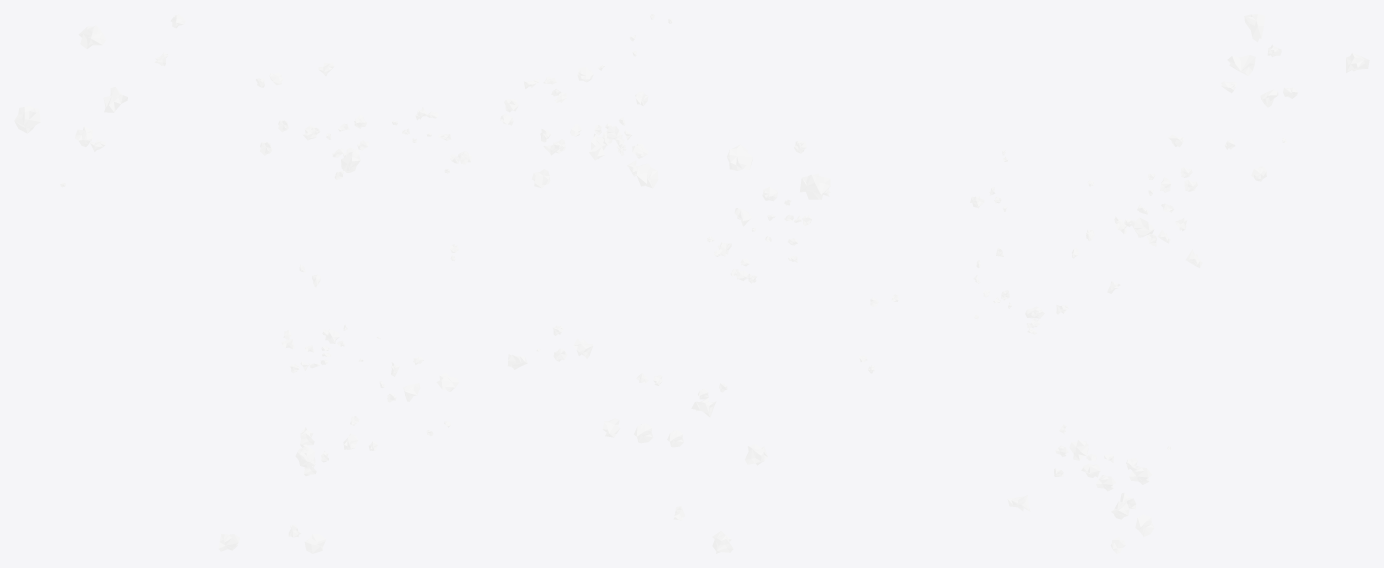
File: IbizaIben_EngleStoev.glb
3 renders of one model, left to right at view 1: azimuth 30°, elevation 25°; view 2: azimuth 150°, elevation 25°; view 3: azimuth 270°, elevation 25°, orthographic. The views are drawn at different scales.
Parts seen in each view (by area): view 1: Stovgruppe1.001, Stovgruppe1; view 2: Stovgruppe1.001, Stovgruppe1; view 3: Stovgruppe1.001, Stovgruppe1.
Boxes of the visible parts, x1,y1,x2,y2 form: Stovgruppe1.001: (14, 14, 471, 553); Stovgruppe1: (256, 62, 459, 450); Stovgruppe1.001: (500, 65, 830, 553); Stovgruppe1: (507, 14, 812, 437); Stovgruppe1.001: (859, 14, 1369, 553); Stovgruppe1: (973, 134, 1266, 519).
Bounding box in the file's own units: 0.32 × 0.3888 × 0.3622.
1 material, 1 textured.
